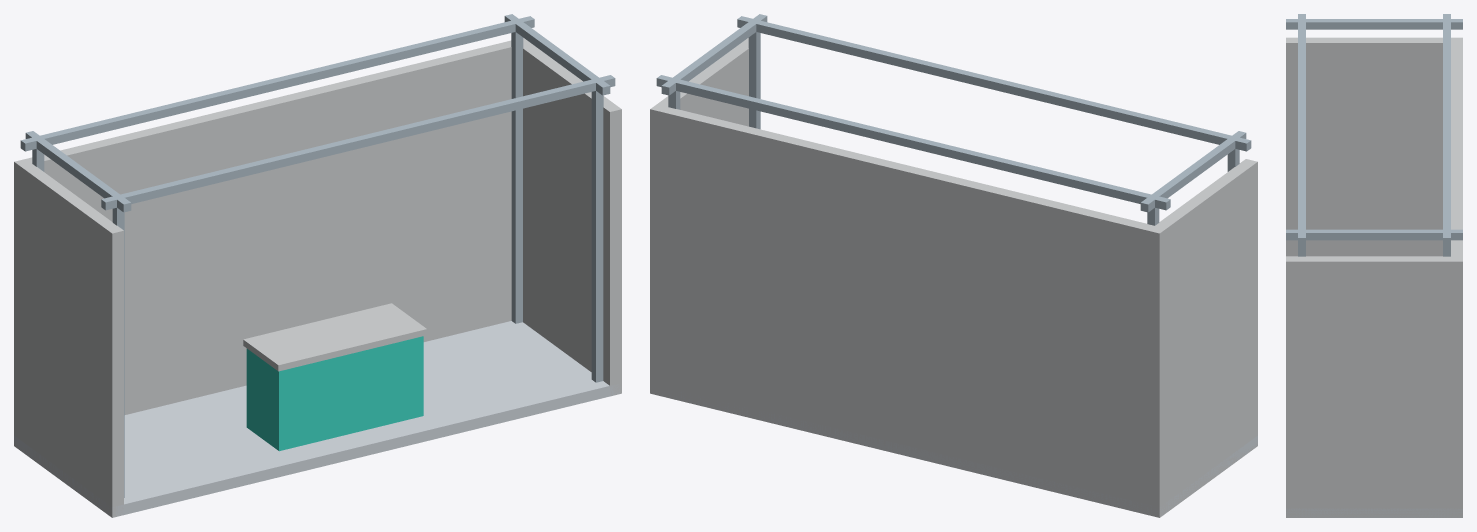
The picture shows the model from 3 angles, left to right: view 1: azimuth 30°, elevation 25°; view 2: azimuth 150°, elevation 25°; view 3: azimuth 270°, elevation 25°; orthographic projection. The views are drawn at different scales.
Visible parts, largest first — view 1: Exhibition Booth Concept; view 2: Exhibition Booth Concept; view 3: Exhibition Booth Concept.
Part boxes in pixels (<box>): Exhibition Booth Concept: <box>14,14,621,517</box>; Exhibition Booth Concept: <box>650,14,1257,517</box>; Exhibition Booth Concept: <box>1286,14,1462,517</box>.
Size of the model in its own units: 6 by 3.49 by 2.
